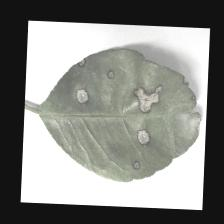canker: (68, 51, 202, 185)
